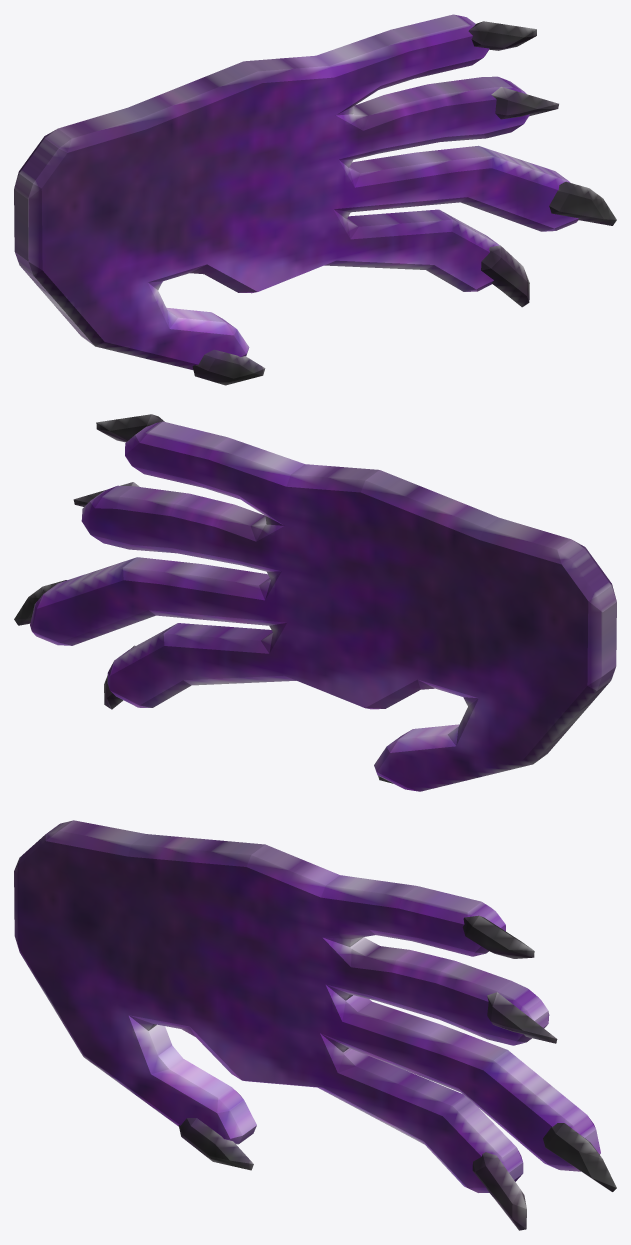
File: monkeyspaw2.fbx
3 views of the same model, one above another, from view 1: azimuth 30°, elevation 25°; view 2: azimuth 150°, elevation 25°; view 3: azimuth 330°, elevation 25° (orthographic). The views are drawn at different scales.
Parts seen in each view (by area): view 1: back, nailsback; view 2: back, nailsback; view 3: back, nailsback.
Boxes of the visible parts, x1,y1,x2,y2 form: back: (14,14,578,369); nailsback: (192,21,616,385); back: (30,421,616,791); nailsback: (14,414,392,783); back: (14,820,600,1192); nailsback: (178,915,616,1230).
Size of the model in its own units: 114 by 56.45 by 9.01.
